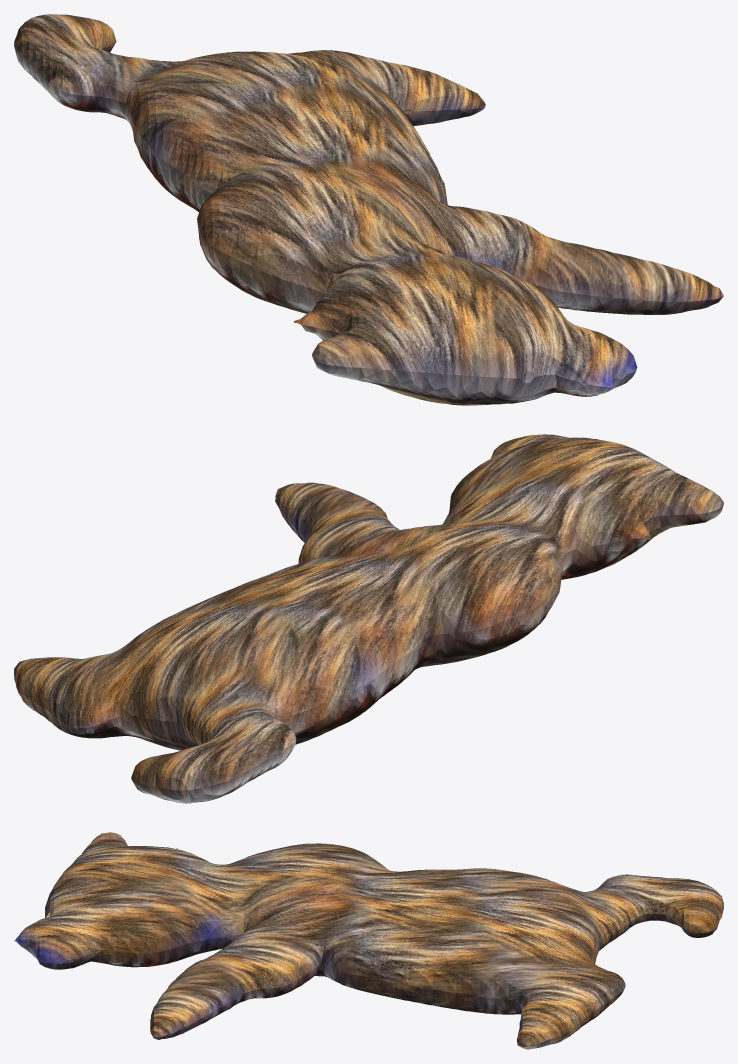
Rendered from 3Bp10bear3D.obj.
3 renders of one model, top to bottom at view 1: azimuth 30°, elevation 25°; view 2: azimuth 150°, elevation 25°; view 3: azimuth 270°, elevation 25°, orthographic. The views are drawn at different scales.
Visible parts, largest first — view 1: Object.1; view 2: Object.1; view 3: Object.1.
Boxes of the visible parts, <box> form: Object.1: <box>14,14,723,405</box>; Object.1: <box>14,434,723,803</box>; Object.1: <box>14,832,723,1049</box>.
Bounding box in the file's own units: 0.1605 × 0.0445 × 0.3002.
Materials: 1 (1 with a texture image).
